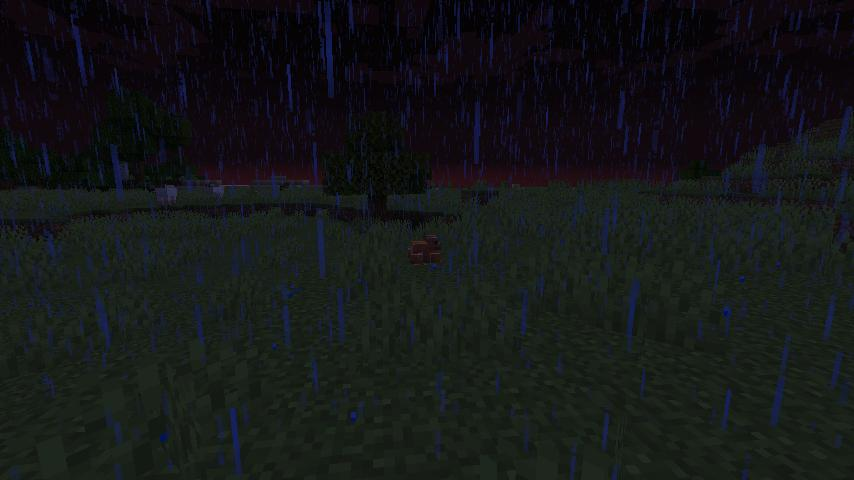frog: (404, 231, 445, 269)
sheep: (154, 182, 179, 206), (205, 182, 226, 199)
